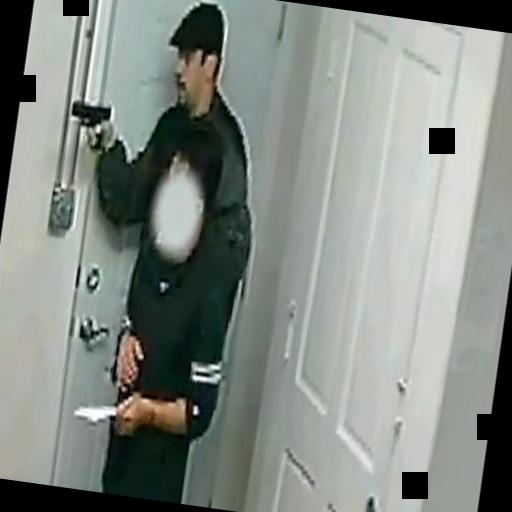Handgun: (64, 98, 112, 154)
